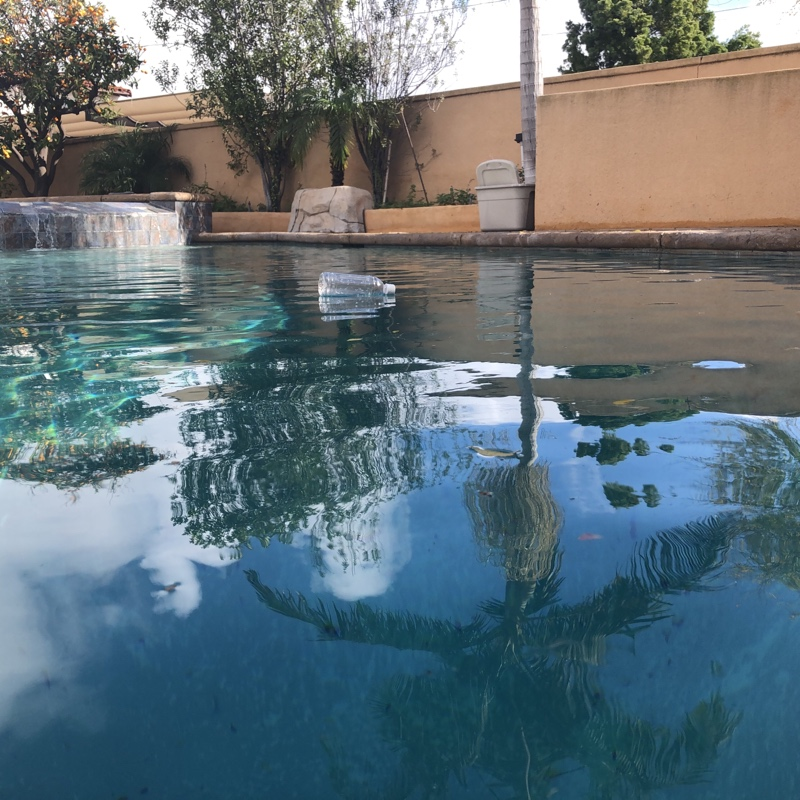Plastic Bottle: (316, 269, 398, 302)
